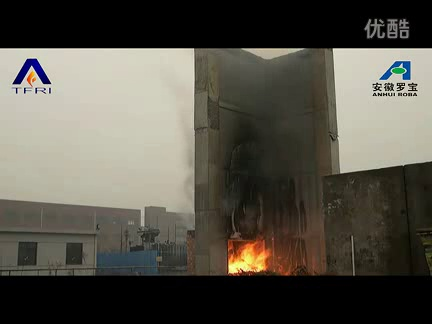fire: (228, 238, 270, 276)
